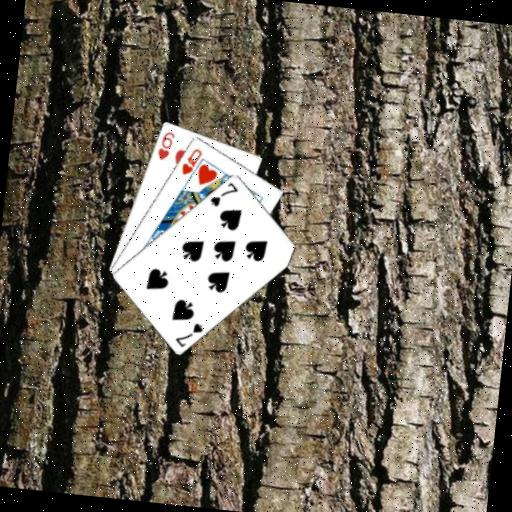6H: (154, 127, 176, 162)
7S: (206, 177, 241, 211), (172, 318, 206, 351)
QH: (178, 144, 204, 178)
